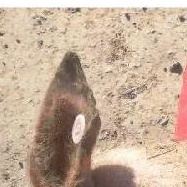text: (58, 108, 99, 149)
